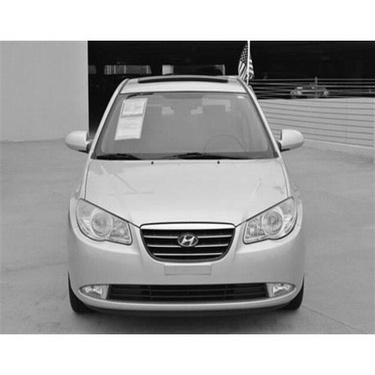car: (52, 73, 310, 319)
